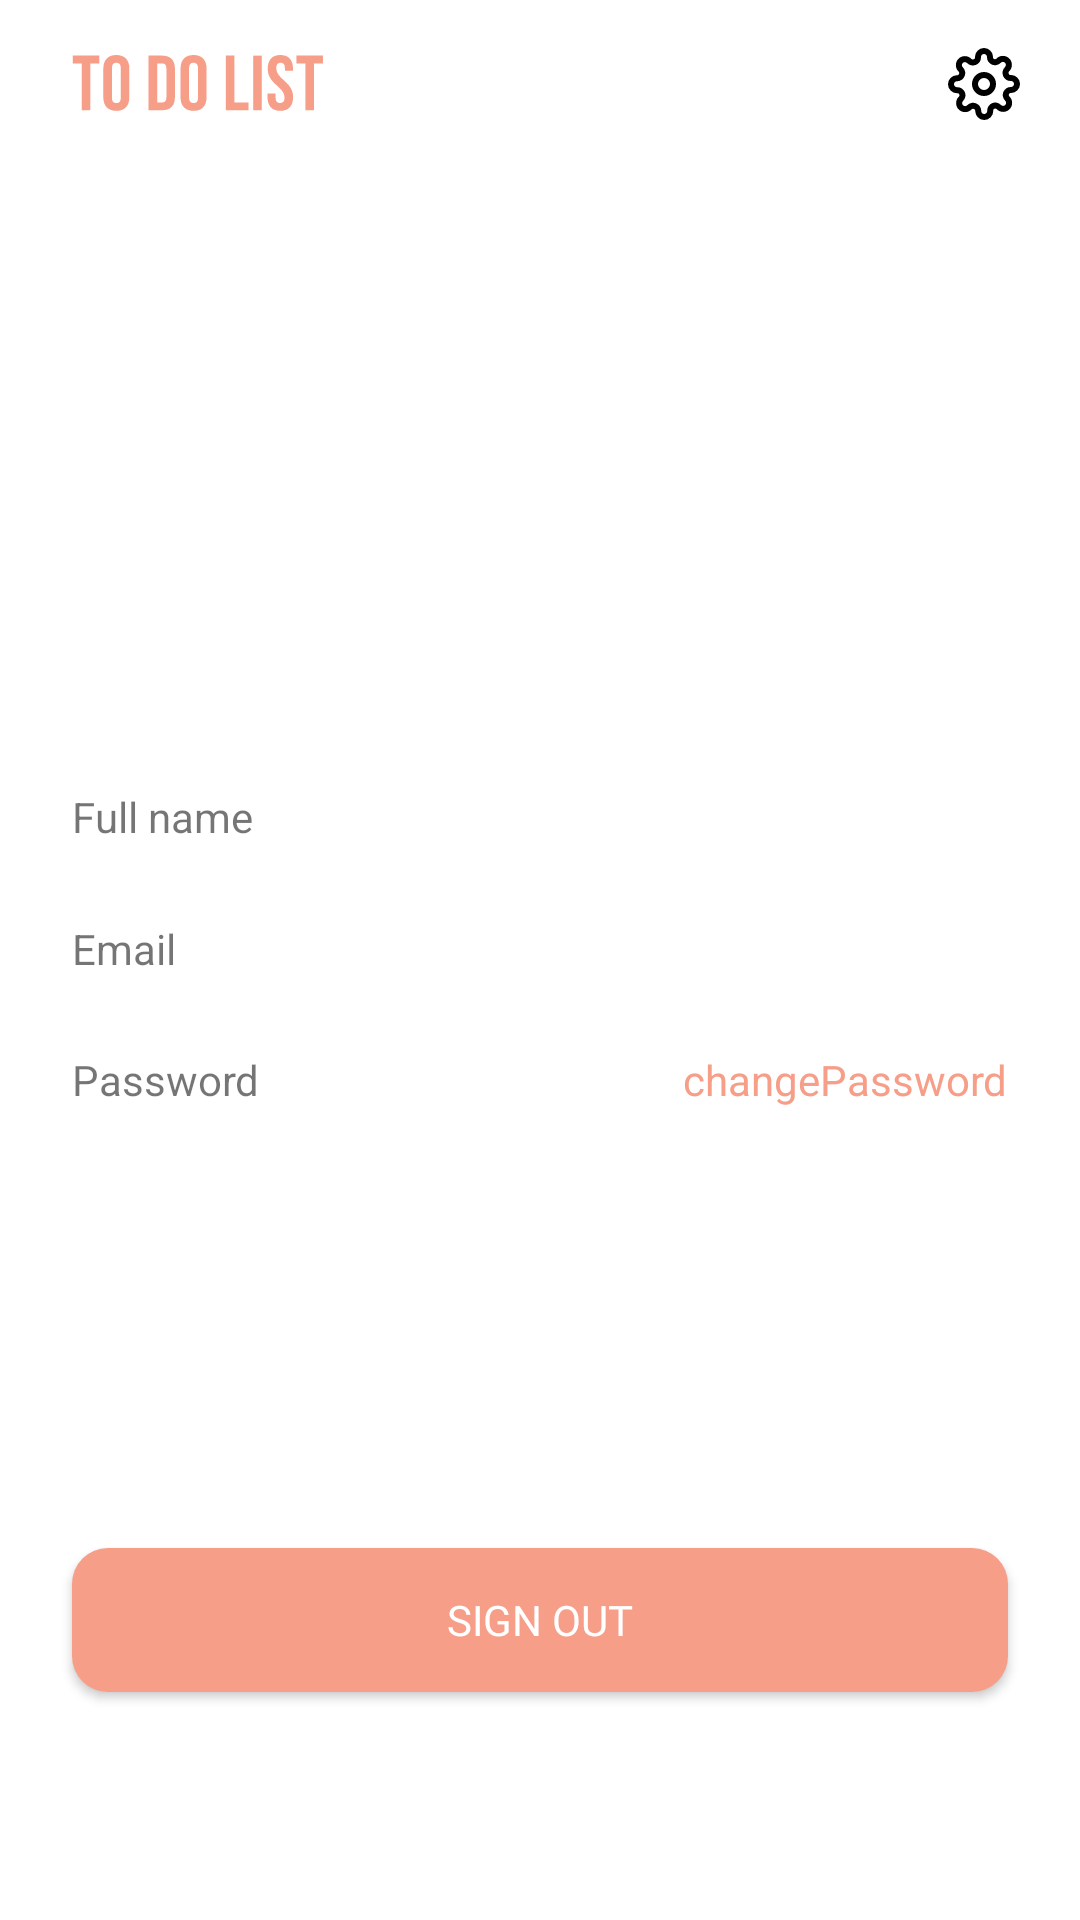

Icons on this 1080w x 1920h Android screen, each with the point to tap as (x=x, y=y):
settings: (x=984, y=84)
